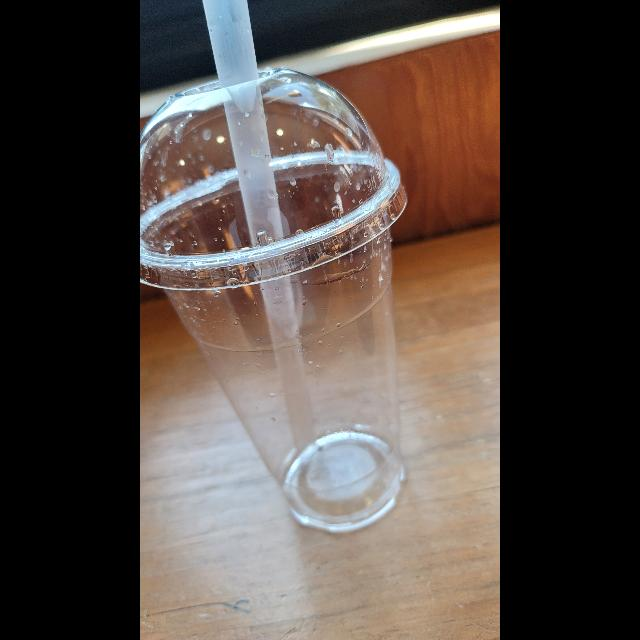plastic_cup: (140, 68, 410, 536)
plastic_cup_lid: (140, 69, 414, 294)
straw: (199, 4, 329, 480)
